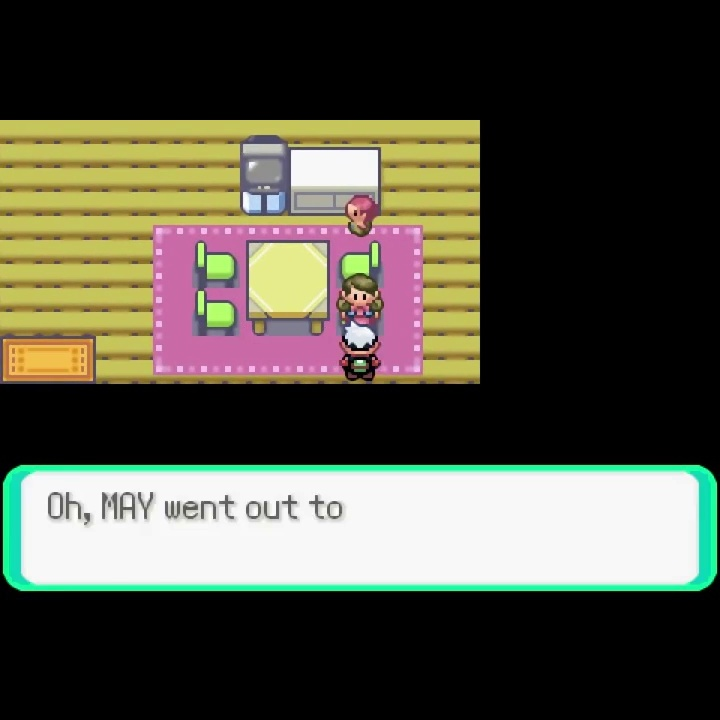exit: (1, 332, 99, 442)
npc: (337, 320, 384, 383), (335, 272, 384, 326), (342, 191, 381, 240)
